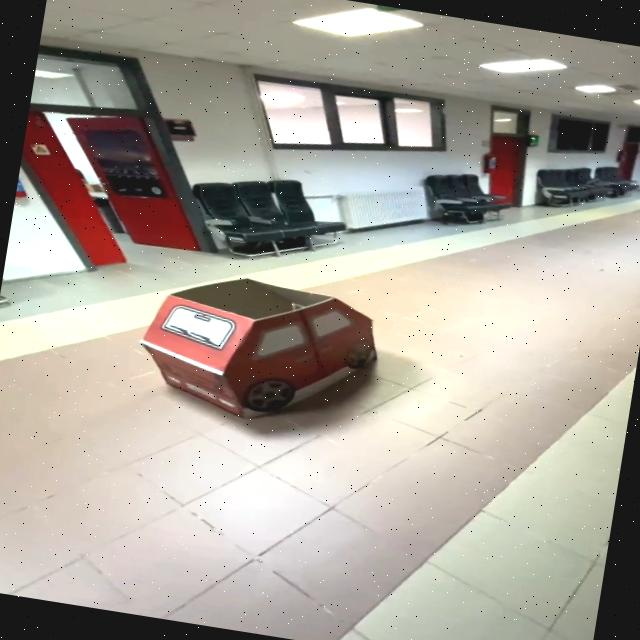red_car: (119, 253, 411, 460)
